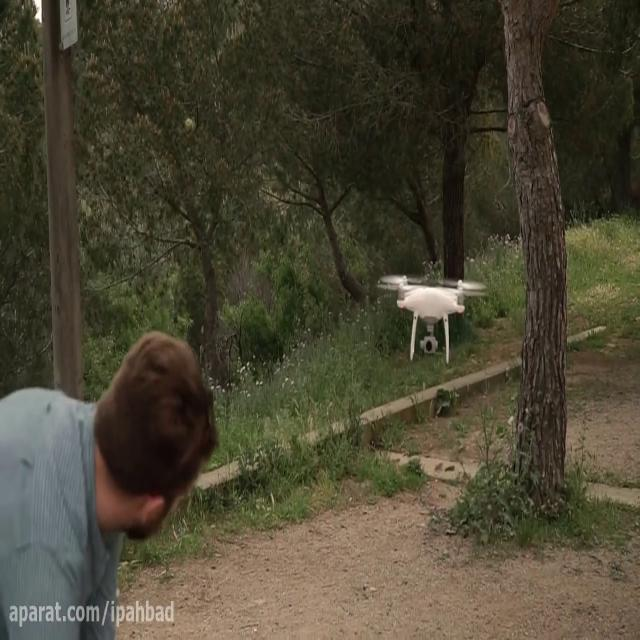drone: (376, 269, 488, 362)
